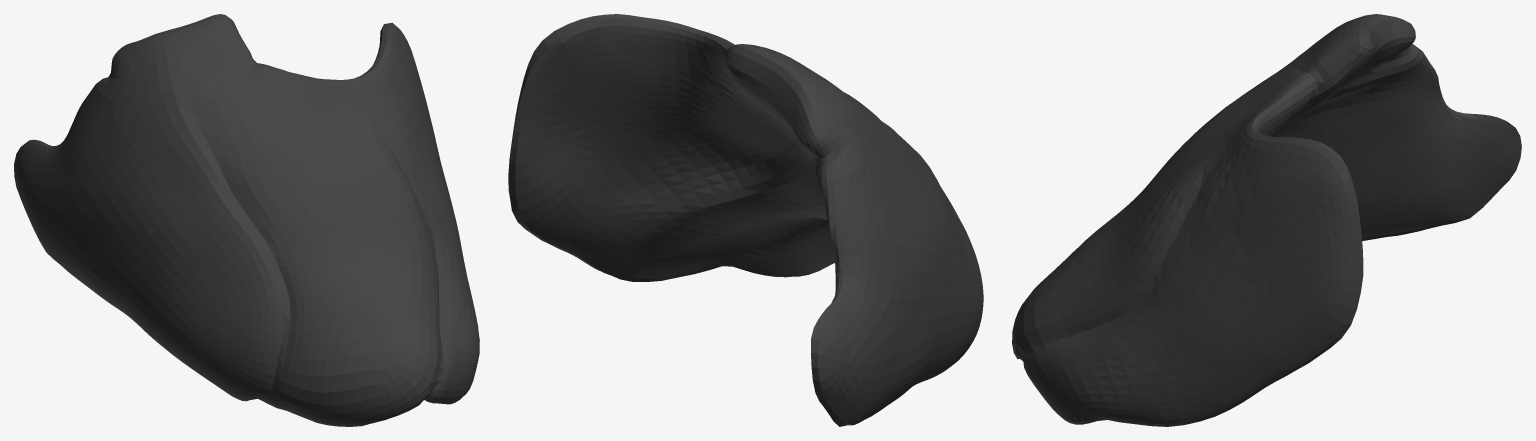
Rendered from Liver.glb.
The picture shows the model from 3 angles, left to right: view 1: azimuth 30°, elevation 25°; view 2: azimuth 150°, elevation 25°; view 3: azimuth 270°, elevation 25°; orthographic projection. The views are drawn at different scales.
Parts seen in each view (by area): view 1: Liver; view 2: Liver; view 3: Liver.
Boxes of the visible parts, <box> form: Liver: <box>14,14,479,426</box>; Liver: <box>508,14,983,426</box>; Liver: <box>1012,14,1521,426</box>.
Size of the model in its own units: 0.8818 by 0.7776 by 1.07.
1 material, 1 textured.
